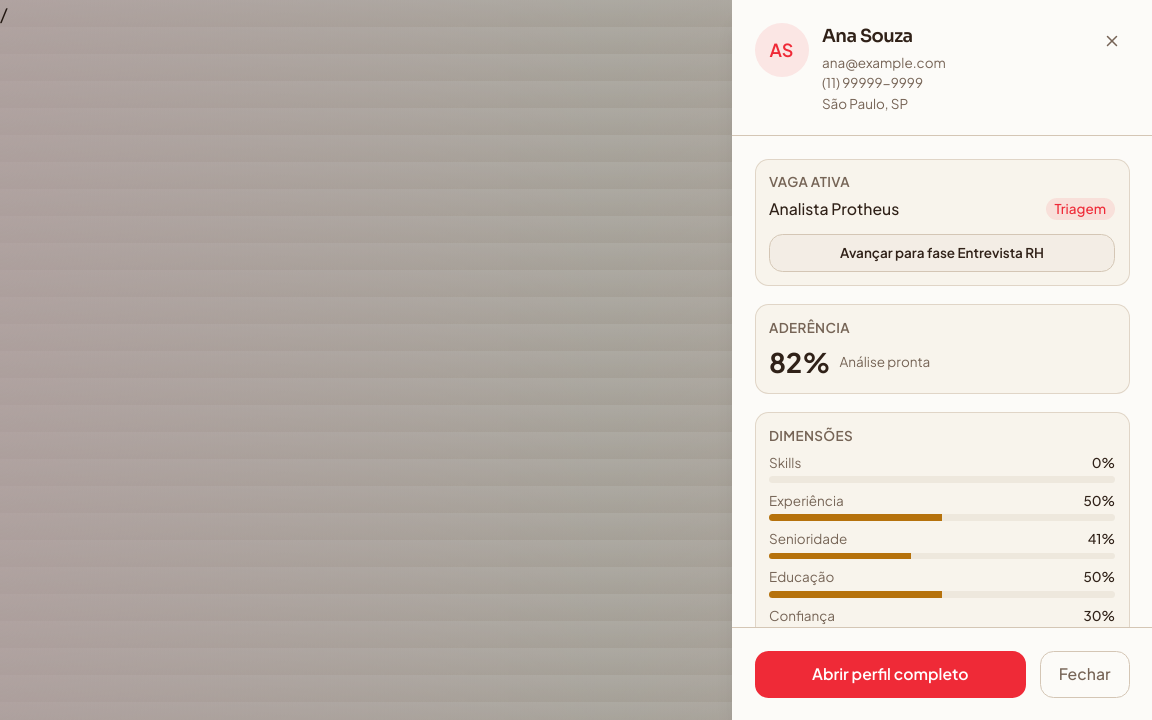
Test case: CandidatePreviewDrawer › continua navegando para o perfil completo
Click the button "Abrir perfil completo": (890, 674) [754, 650, 1026, 698]
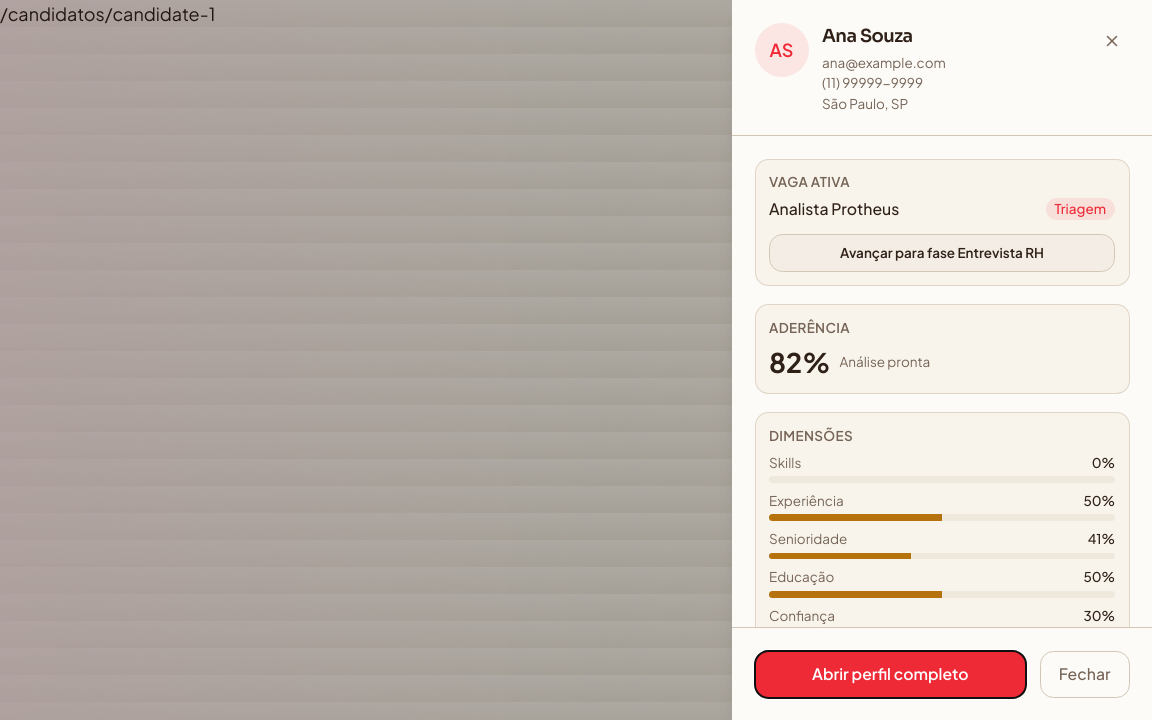
expect the text with test id "location" reads "/candidatos/candidate-1": met, box [0, 2, 215, 25]
